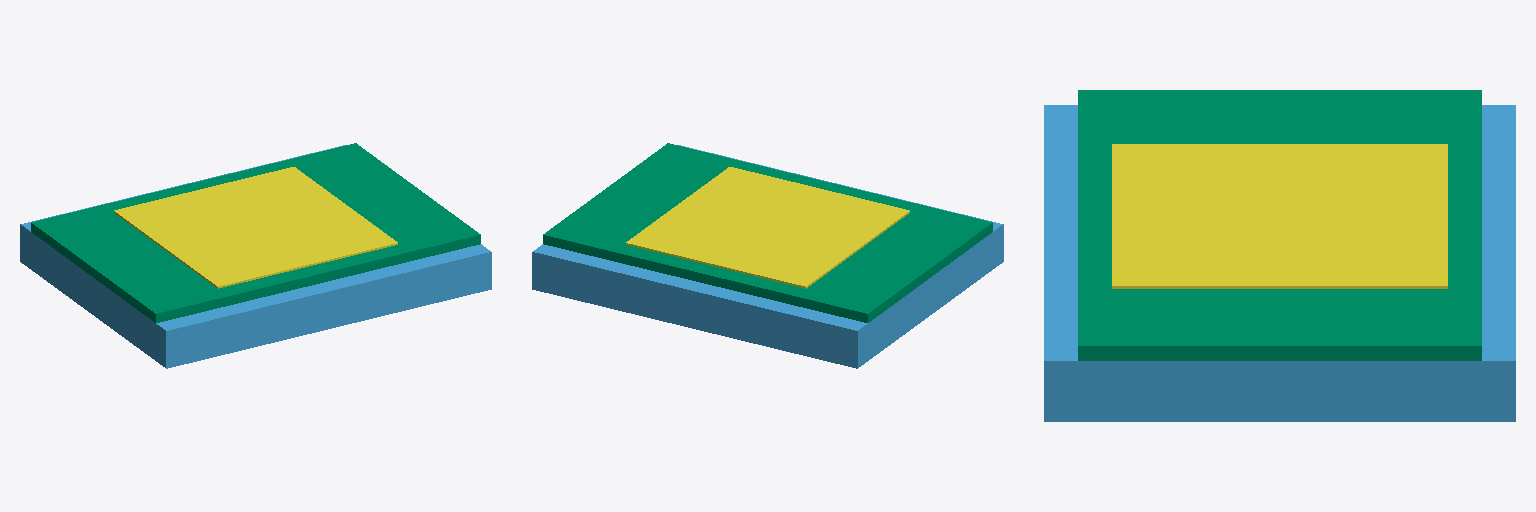
URDF robot description (prismatic_box):
<?xml version="1.0" encoding="UTF-8"?>
<robot name="prismatic_box">
	
	<gazebo>
		<plugin name="gazebo_ros_control" filename="libgazebo_ros_control.so">
			<robotNamespace>/prismatic_box_controller</robotNamespace>
			<robotSimType>gazebo_ros_control/DefaultRobotHWSim</robotSimType>
			<legacyModeNS>true</legacyModeNS>
		</plugin>
	</gazebo>

	<link name="world"/>

	<link name="world_box">
		<inertial>
			<mass value="50000" />
			<origin xyz="0 0 0.0" />
			<inertia ixx="833333" ixy="0.0" ixz="0.0" iyy="1366666" iyz="0.0" izz="2166666" /> 
			<!--Ixx = 1/12/m*(y^2+z^2)-->
		</inertial>

		<visual>
			<origin xyz="0 0 0"  />
			<geometry>
				<box size="18 14 2" />
			</geometry>
		</visual>

		<collision>
			<origin xyz="0 0 0" />
			<geometry>
				<box size="18 14 2" />
			</geometry>
			<!--surface>
				<friction>
				  <ode>
					<mu>0.0</mu>
					<mu2>0.0</mu2>
				  </ode>
				</friction>
			</surface-->
		</collision>
	</link>	
	<gazebo reference="world_box">
		<material>Gazebo/Gray</material>
	</gazebo>

	<joint name="world_box_joint" type="fixed">
		<origin xyz="0 0 1.0" rpy="0 0 0" />
		<parent link="world"/>
		<child link="world_box" />
	</joint>

	<link name="slide_box">
		<inertial>
			<mass value="10000" />
			<origin xyz="0 0 0" />
			<inertia ixx="120208" ixy="0.0" ixz="0.0" iyy="270208" iyz="0.0" izz="390000" /> 
			<!--Ixx = 1/12/m*(y^2+z^2)-->
		</inertial>

		<visual>
			<origin xyz="0 0 0" />
			<geometry>
				<box size="18 12 0.5" />
			</geometry>
		</visual>

		<collision>
			<origin xyz="0 0 0" />
			<geometry>
				<box size="18 12 0.5" />
			</geometry>
			<!--surface>
				<friction>
				  <ode>
					<mu>0.0</mu>
					<mu2>0.0</mu2>
				  </ode>
				</friction>
			</surface-->
		</collision>
	</link>	
	<gazebo reference="slide_box">
		<material>Gazebo/Blue</material>
	</gazebo>

	<joint name="slide_box_joint" type="fixed">
		<origin xyz="0 0 1.25" rpy="0 0 0" />
		<parent link="world_box"/>
		<child link="slide_box" />
	</joint>

	<link name="box">
		<inertial>
			<mass value="10000" />
			<origin xyz="0 0 0" />
			<inertia ixx="83541" ixy="0.0" ixz="0.0" iyy="83541" iyz="0.0" izz="166666" /> 
			<!--Ixx = 1/12/m*(y^2+z^2)-->
		</inertial>

		<visual>
			<origin xyz="0 0 0" />
			<geometry>
				<box size="10 10 0.1" />
			</geometry>
		</visual>

		<collision>
			<origin xyz="0 0 0" />
			<geometry>
				<box size="10 10 0.1" />
			</geometry>
			<surface>
				<friction>
				  <ode>
					<mu>0.6</mu>
					<mu2>0.6</mu2>
				  </ode>
				  <bullet>
					<friction>0.6</friction>
					<friction2>0.6</friction2>
					<rolling_friction>0.6</rolling_friction>
				  </bullet>
				</friction>
				<contact>
					<ode>
						<min_depth>0.003</min_depth>
					</ode>
				</contact>
			</surface>
		</collision>
	</link>
	<gazebo reference="box">
		<material>simple_terrain</material>
		<mu1>0.59</mu1>
		<mu2>0.6</mu2>
		<minDepth>0.0001</minDepth>
		<maxContacts>10</maxContacts>
	</gazebo>

	<joint name="box_joint" type="prismatic">
		<origin xyz="0 0 0.3" rpy="0 0 0" />
		<parent link="slide_box"/>
		<child link="box" />
        <xis xyz = "1 0 0"/>
		<limit effort="1000000" lower="-4" upper="4" velocity="20" />
	</joint>

	

    <transmission name="tran1">
        <type>transmission_interface/SimpleTransmission</type>
        <joint name="box_joint">
            <hardwareInterface>hardware_interface/EffortJointInterface</hardwareInterface>
        </joint>
        <actuator name="motor1">
            <hardwareInterface>hardware_interface/EffortJointInterface</hardwareInterface>
            <mechanicalReduction>1</mechanicalReduction>
        </actuator>
    </transmission>


</robot>

--- Facts derived from the render (not from the file) ---
The picture shows the robot from 3 angles, left to right: view 1: azimuth 30°, elevation 25°; view 2: azimuth 150°, elevation 25°; view 3: azimuth 270°, elevation 25°; orthographic projection.
Robot: prismatic_box — 4 links, 3 joints (1 prismatic, 2 fixed); root link world; default pose: every joint at zero.
Links seen in each view (by area): view 1: slide_box, world_box, box; view 2: slide_box, world_box, box; view 3: slide_box, box, world_box.
Boxes of the visible links, box(x1,y1,x2,y2) form: slide_box: box(31, 143, 480, 322); world_box: box(20, 145, 491, 368); box: box(114, 167, 397, 288); slide_box: box(543, 143, 992, 322); world_box: box(532, 145, 1003, 368); box: box(626, 167, 909, 288); slide_box: box(1078, 90, 1481, 360); box: box(1112, 144, 1447, 288); world_box: box(1044, 105, 1515, 421).
Size in the robot's own frame: 18 by 14 by 2.6 metres.
Geometry: primitives only (box / cylinder / sphere), no mesh files.